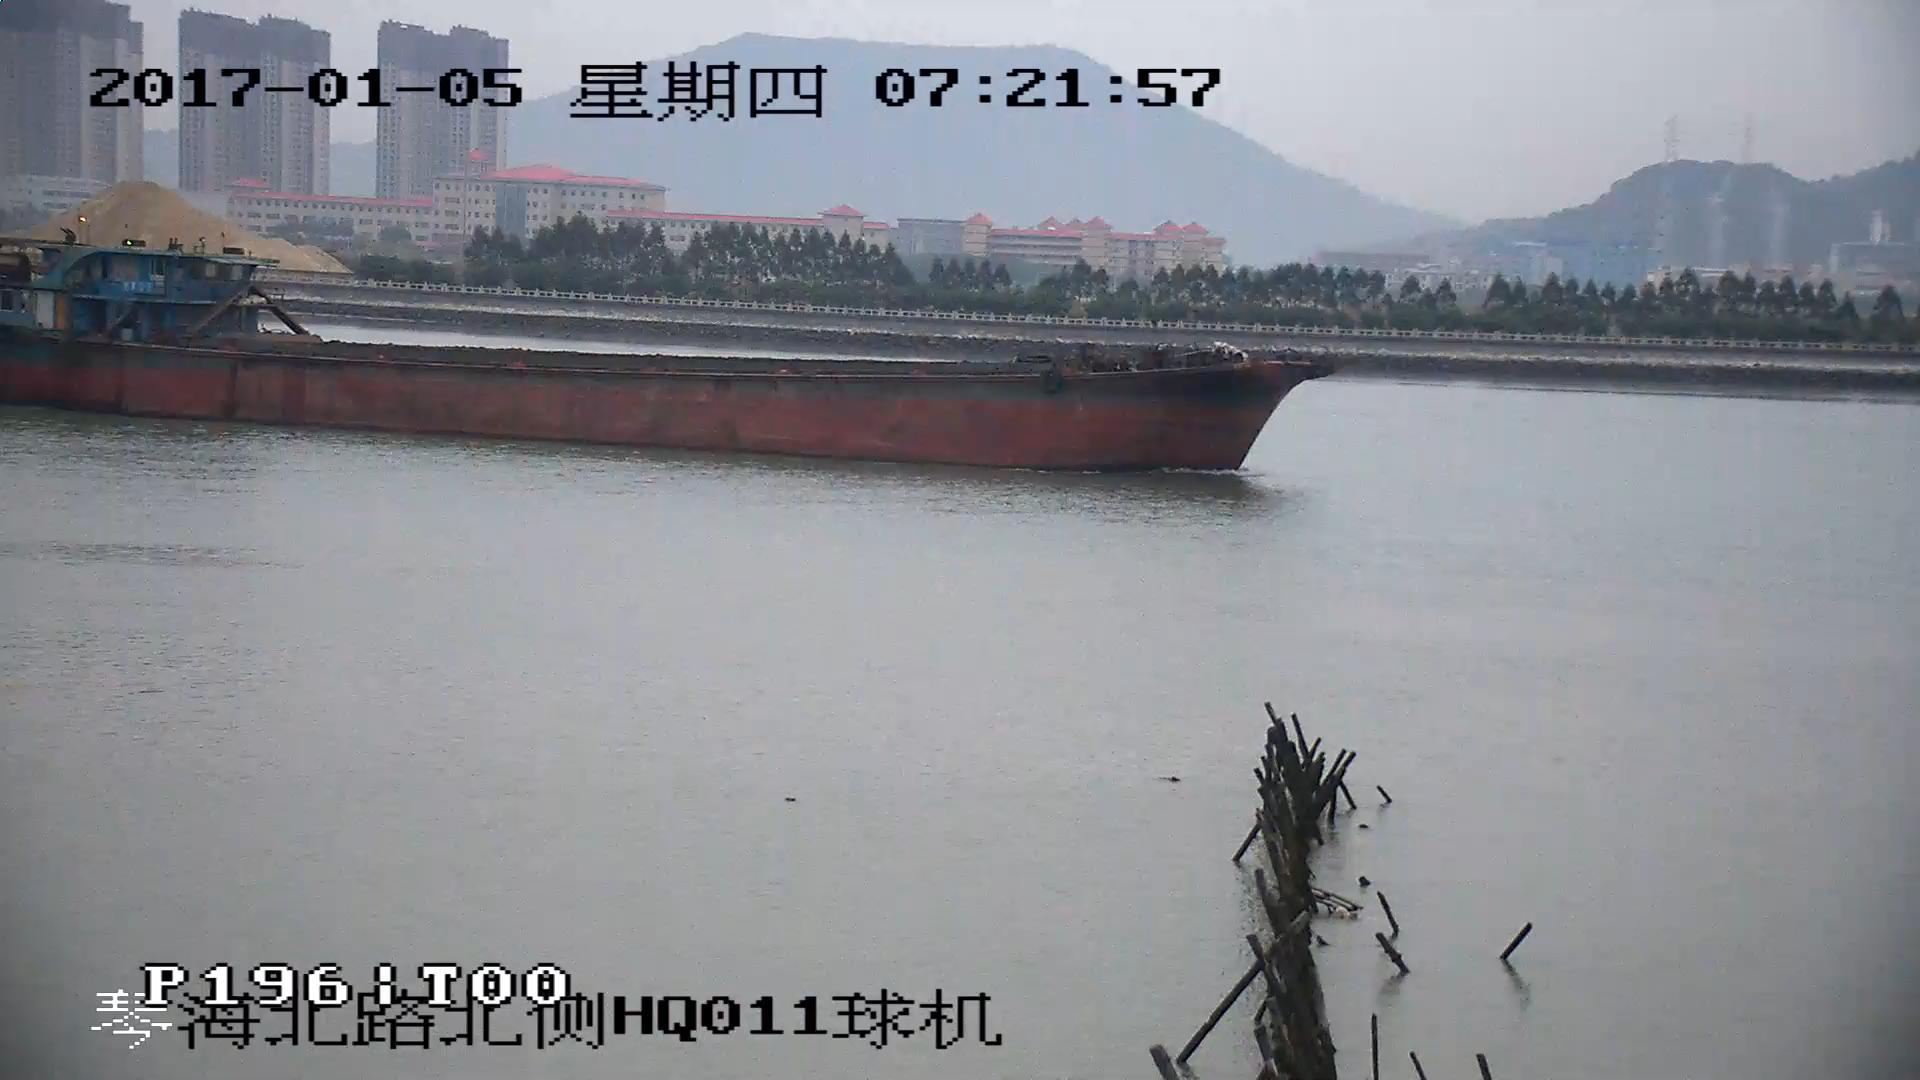Ship: (3, 240, 1335, 472)
